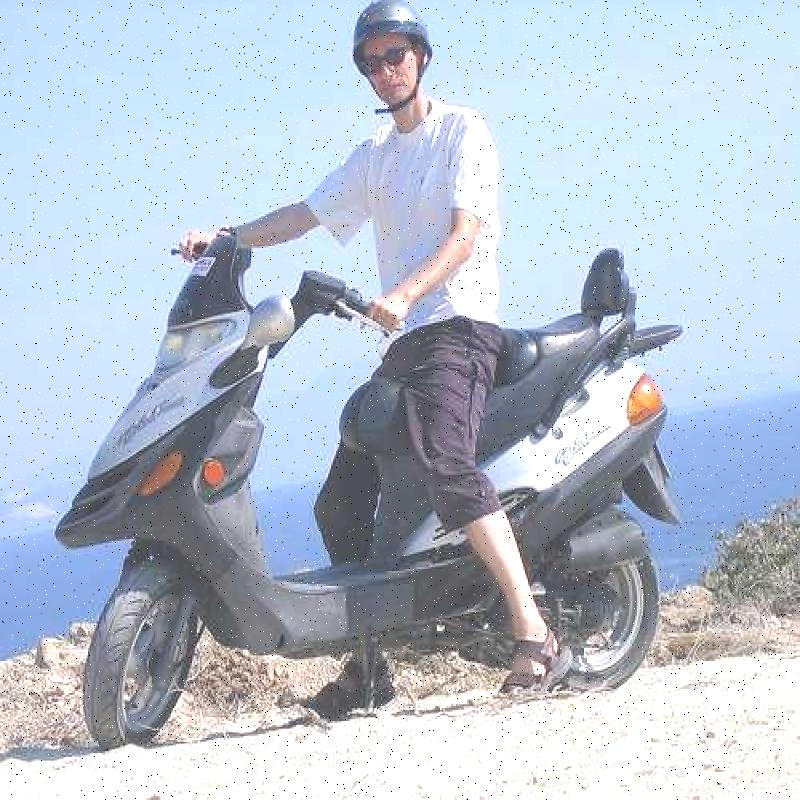bike: (58, 205, 672, 772)
